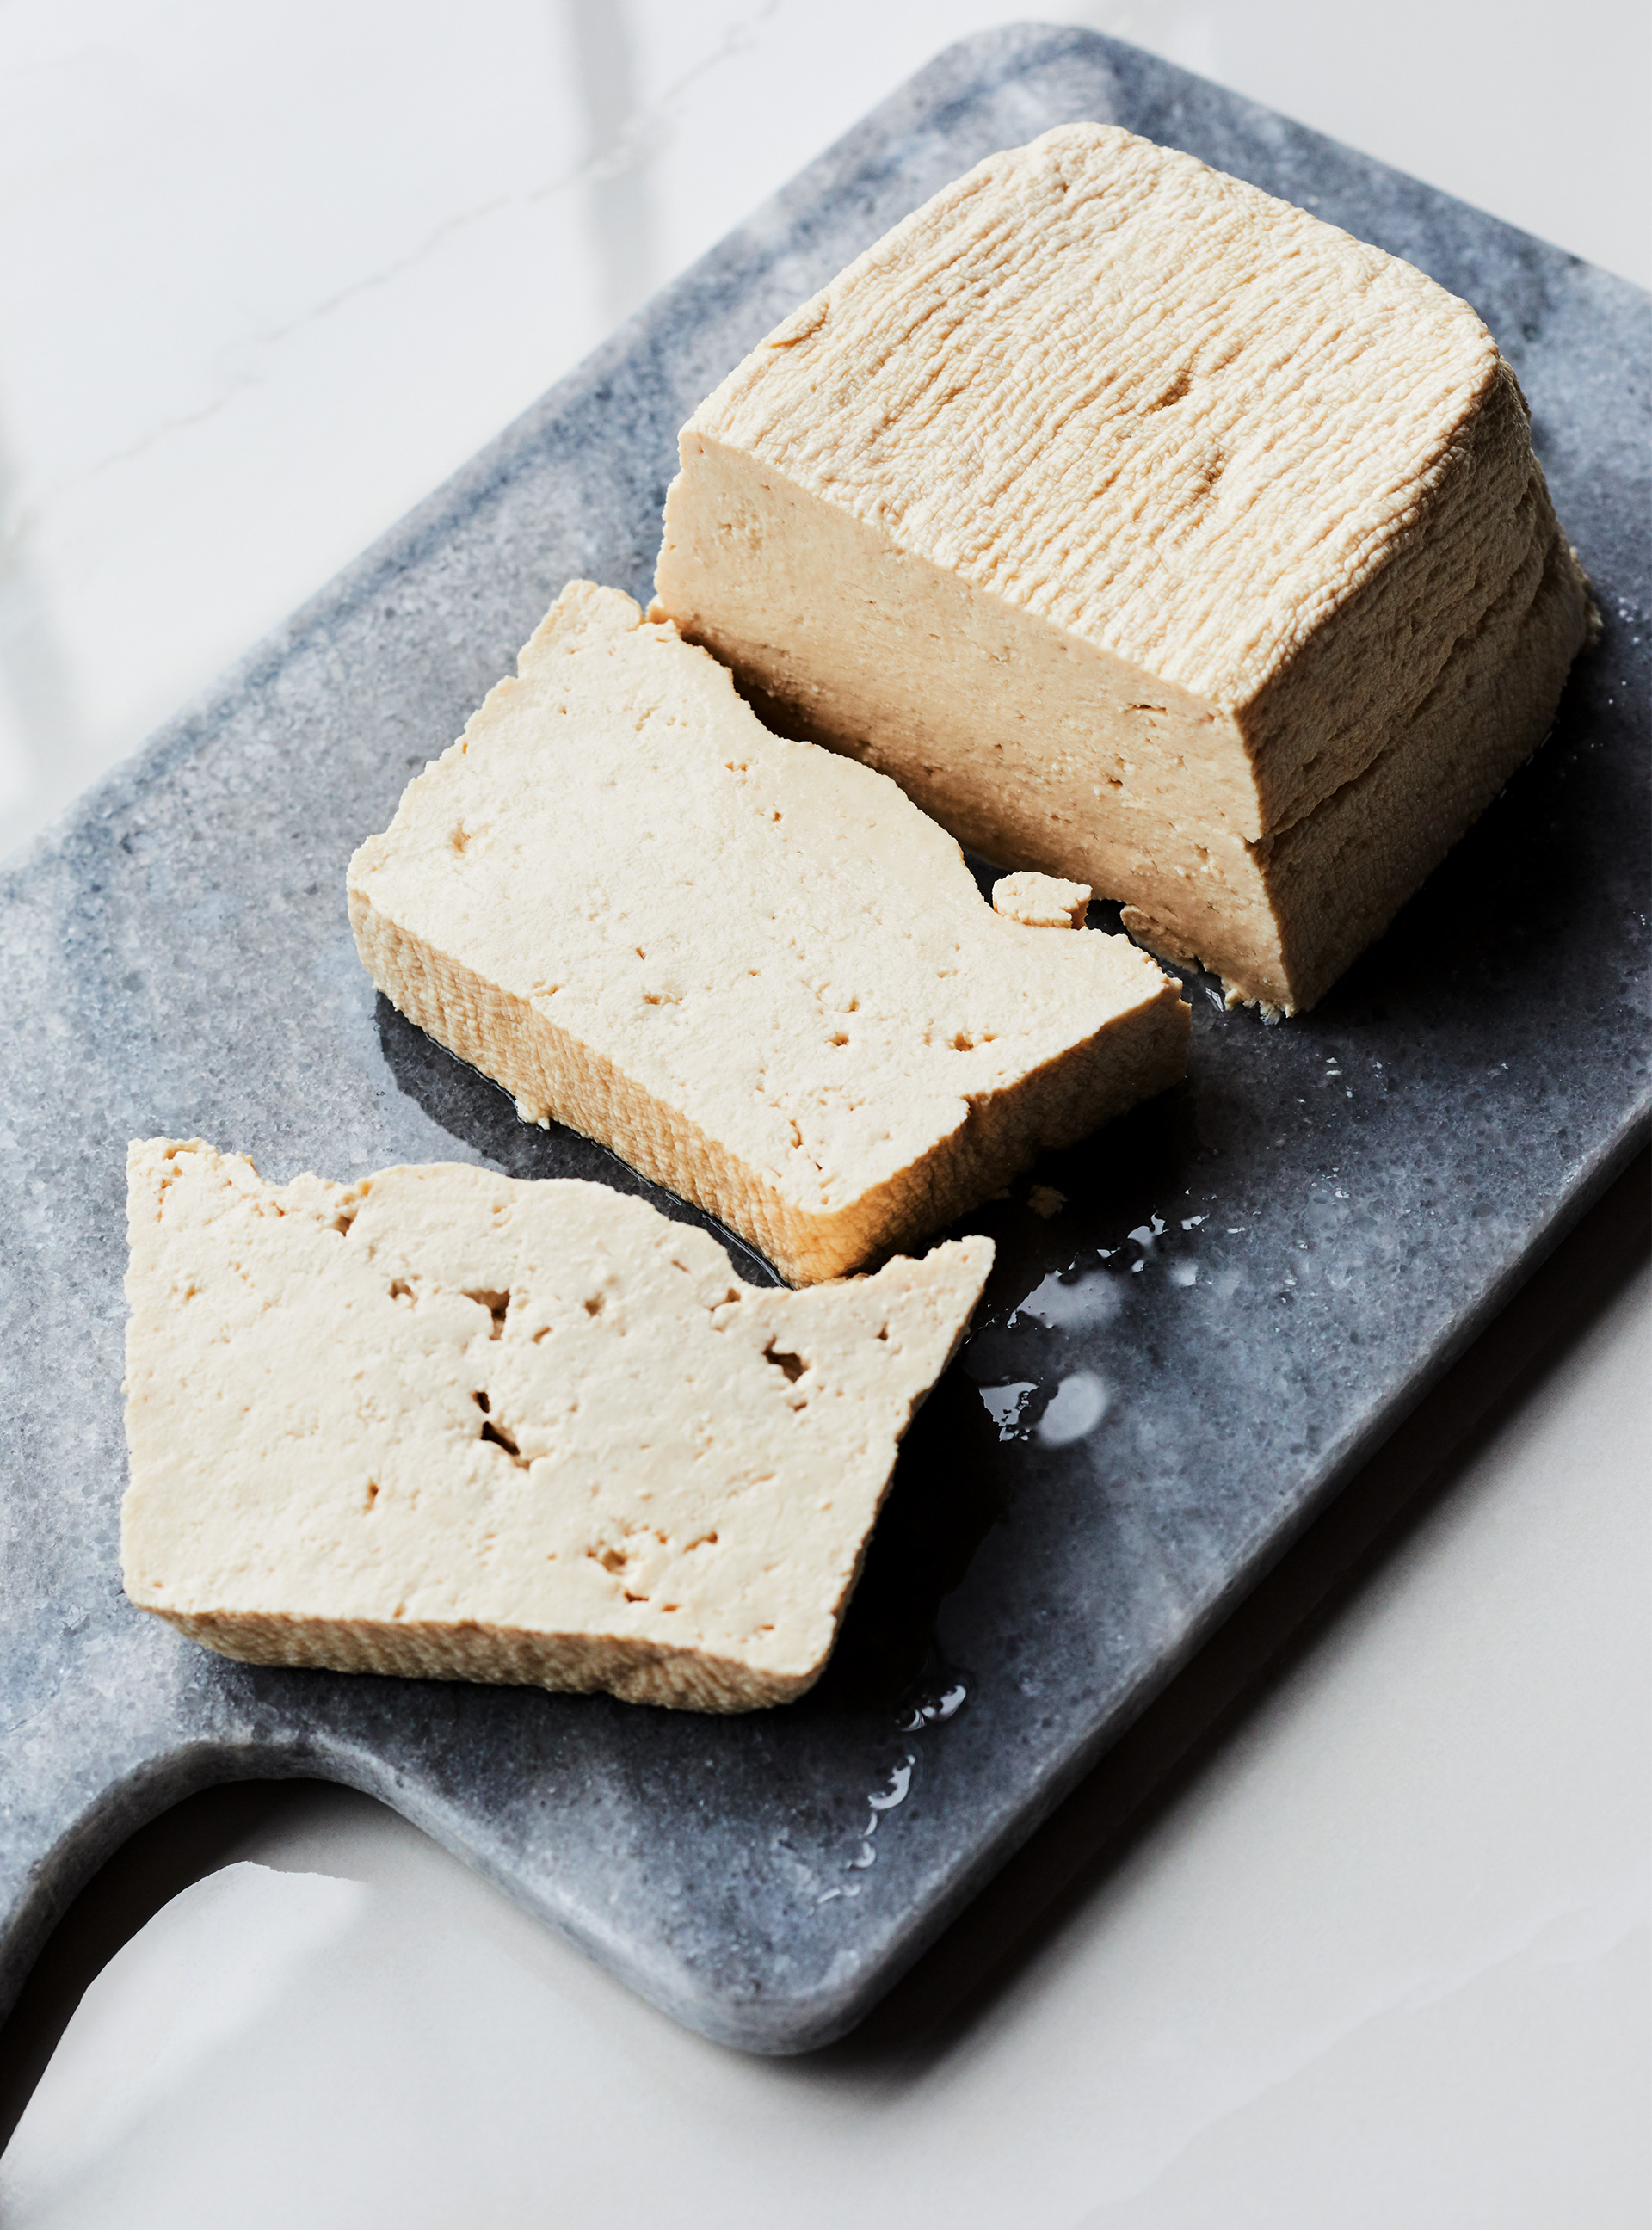Tahu: (567, 200, 1588, 935), (302, 639, 1249, 1220), (80, 1111, 967, 1720)
